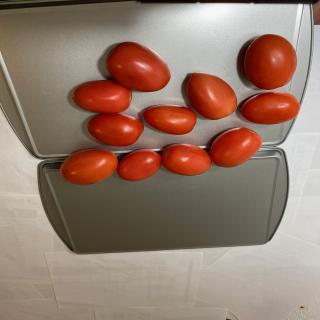Chilli: (59, 34, 300, 185)
Tomato: (105, 41, 171, 92), (244, 34, 297, 90), (186, 72, 237, 120), (210, 127, 263, 168), (60, 148, 118, 185), (72, 80, 132, 114), (240, 92, 300, 125), (87, 113, 144, 147), (161, 143, 212, 176), (142, 104, 196, 135), (117, 149, 162, 181)
